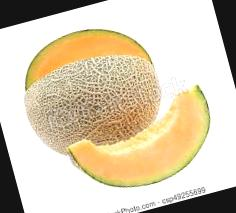Melon Ripe: (9, 12, 170, 161), (59, 82, 224, 202)
